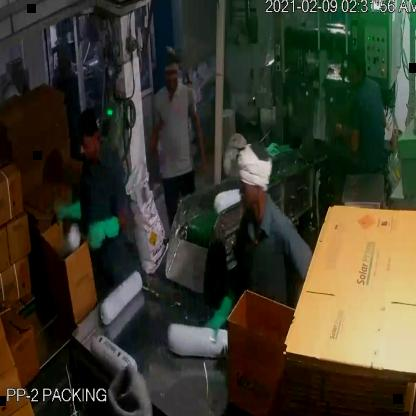glove: (201, 280, 242, 349), (83, 211, 129, 248), (51, 192, 84, 233)
no_glove: (188, 97, 210, 184), (326, 108, 360, 163), (144, 107, 166, 184)
